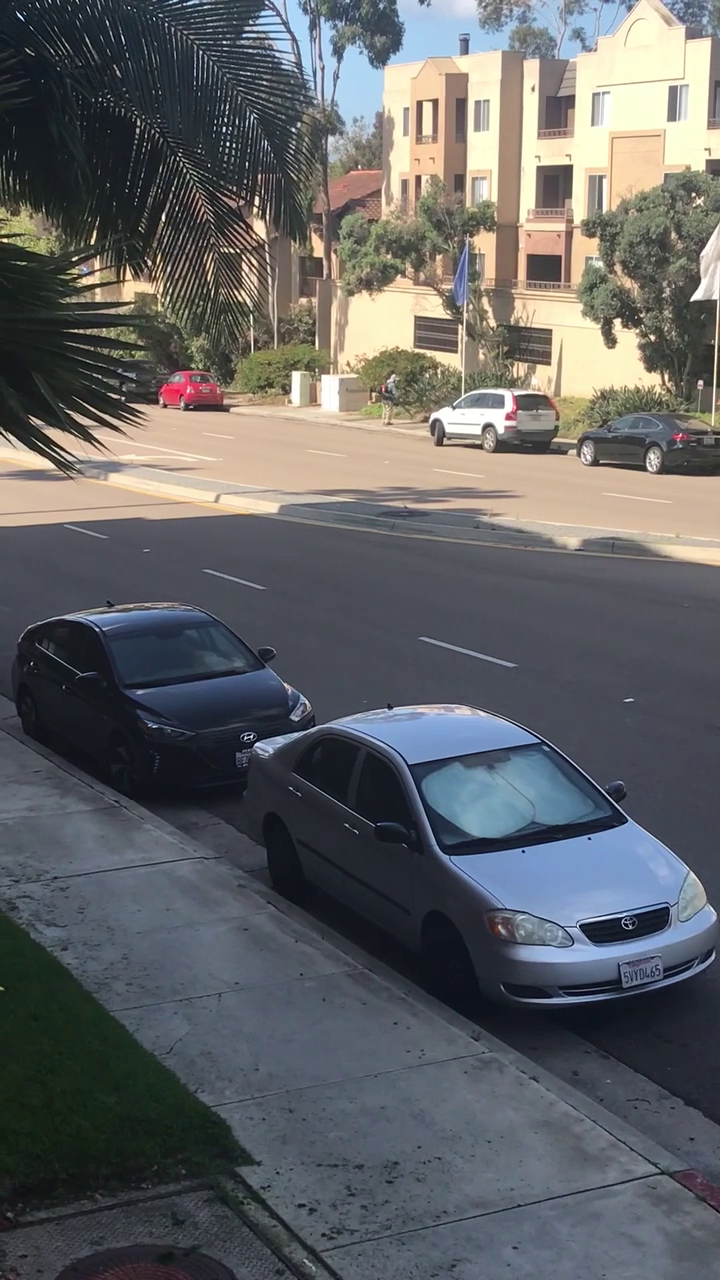car: (225, 705, 699, 1018), (14, 608, 310, 796)
